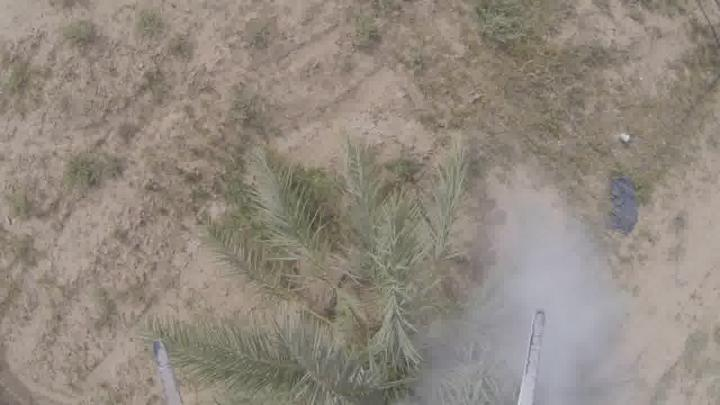Date-Palm-Crown: (248, 201, 528, 405)
